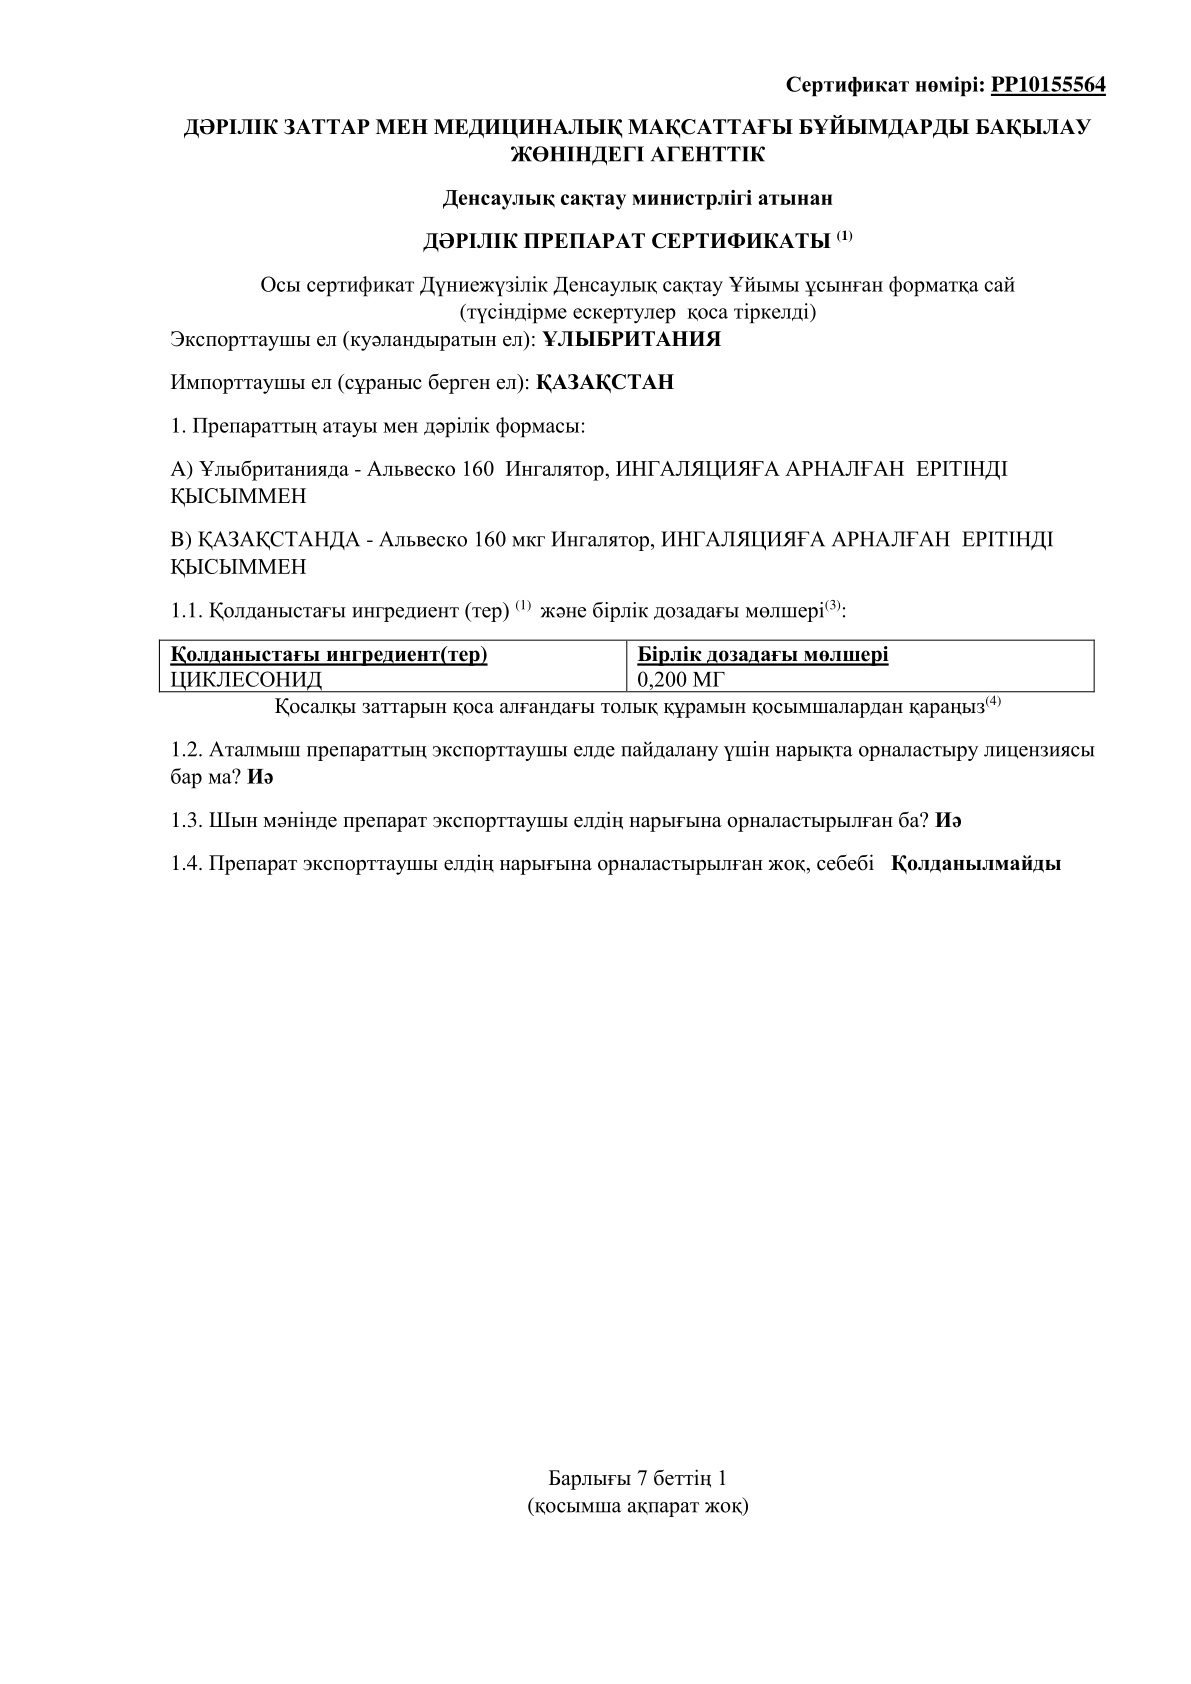partial_lined: (159, 639, 1096, 693)
